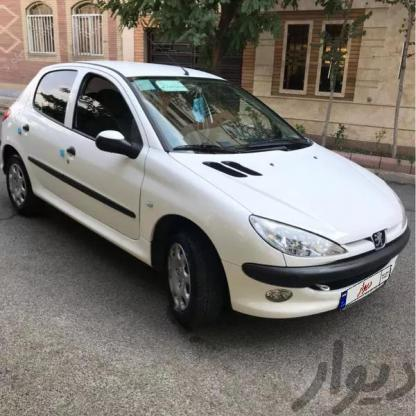Car: (1, 64, 410, 356)
